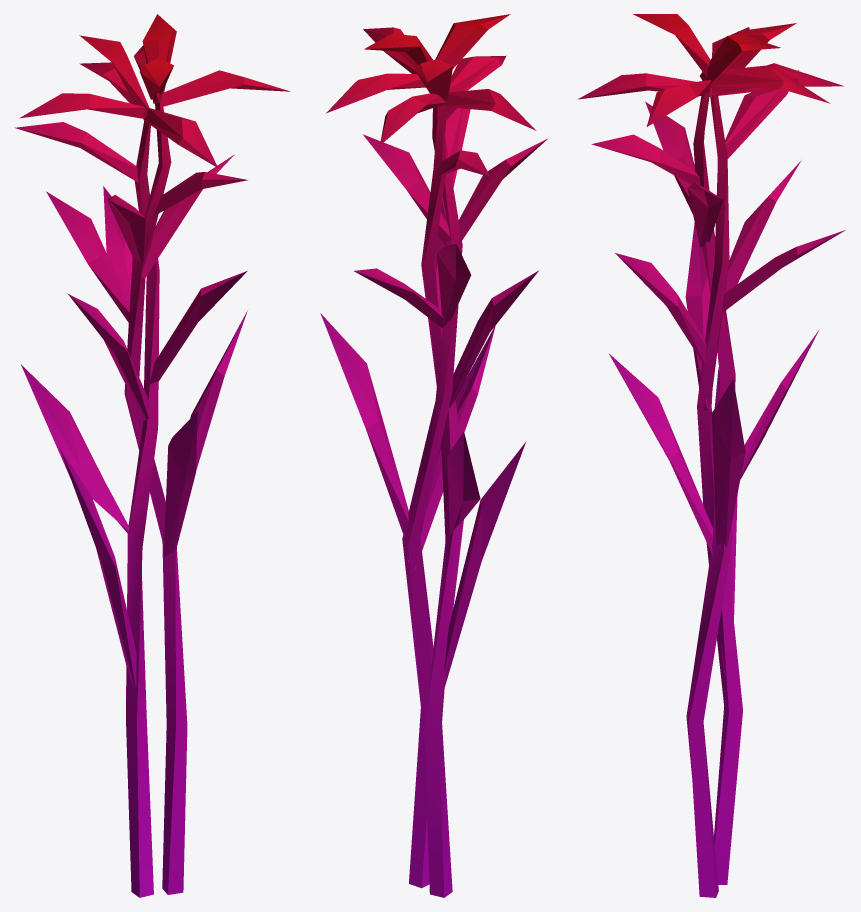
Rendered from SM_Plant_05.gltf.
3 renders of one model, left to right at view 1: azimuth 30°, elevation 25°; view 2: azimuth 150°, elevation 25°; view 3: azimuth 270°, elevation 25°, orthographic.
Visible parts, largest first — view 1: SM_Plant_05; view 2: SM_Plant_05; view 3: SM_Plant_05.
Part boxes in pixels (x1,y1,x2,y2): SM_Plant_05: (14,14,290,897); SM_Plant_05: (320,14,547,897); SM_Plant_05: (577,14,845,897).
Bounding box in the file's own units: 0.8291 × 3.02 × 0.8607.
